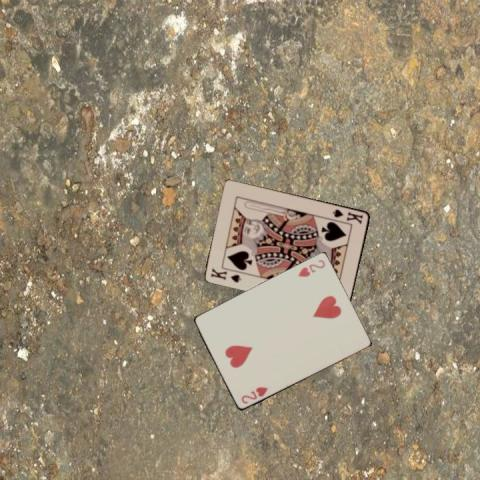2h: (294, 256, 326, 278), (238, 384, 269, 405)
Ks: (330, 206, 365, 225), (208, 265, 243, 284)
